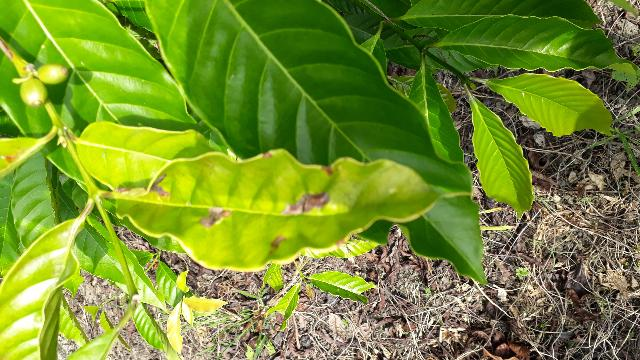red_spider_mite: (104, 150, 453, 271)
